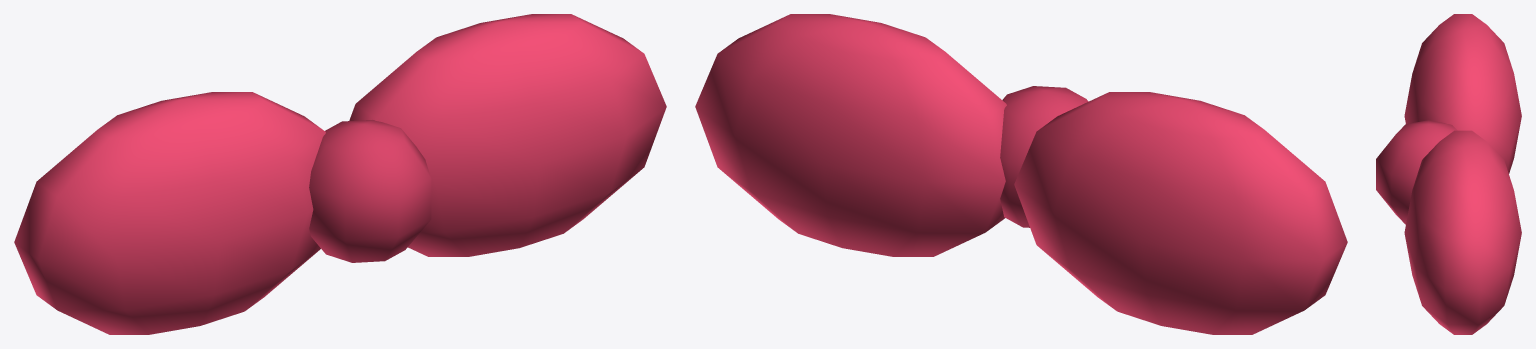
The model's file is ribbon.glb.
3 views of the same model, side by side, from view 1: azimuth 30°, elevation 25°; view 2: azimuth 150°, elevation 25°; view 3: azimuth 270°, elevation 25° (orthographic). The views are drawn at different scales.
Parts seen in each view (by area): view 1: ribbon_loopL; view 2: ribbon_loopL; view 3: ribbon_loopL.
Part boxes in pixels (bbox=[...]): ribbon_loopL: bbox=[14, 14, 666, 334]; ribbon_loopL: bbox=[695, 14, 1347, 334]; ribbon_loopL: bbox=[1376, 14, 1521, 334].
Size of the model in its own units: 0.1576 by 0.0544 by 0.0422.
